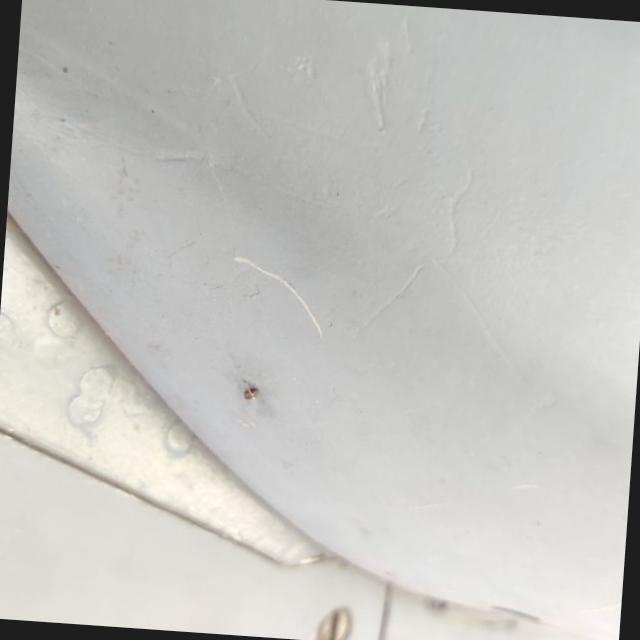scratch: (207, 240, 344, 354)
